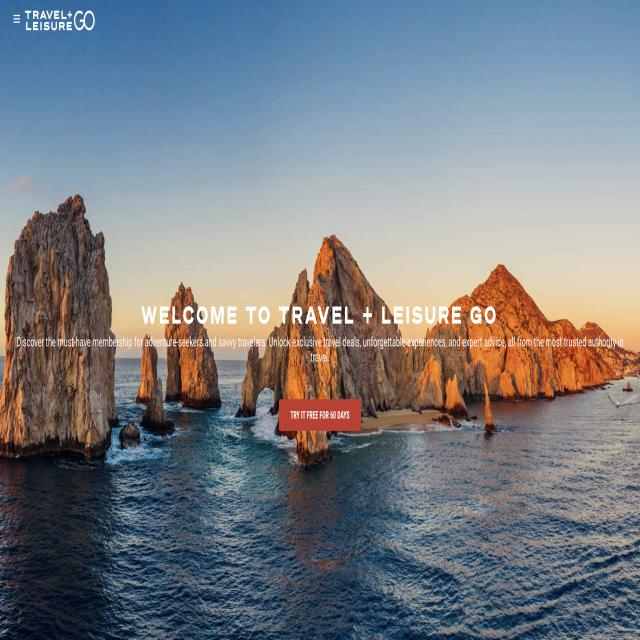Logo: (0, 0, 98, 50)
